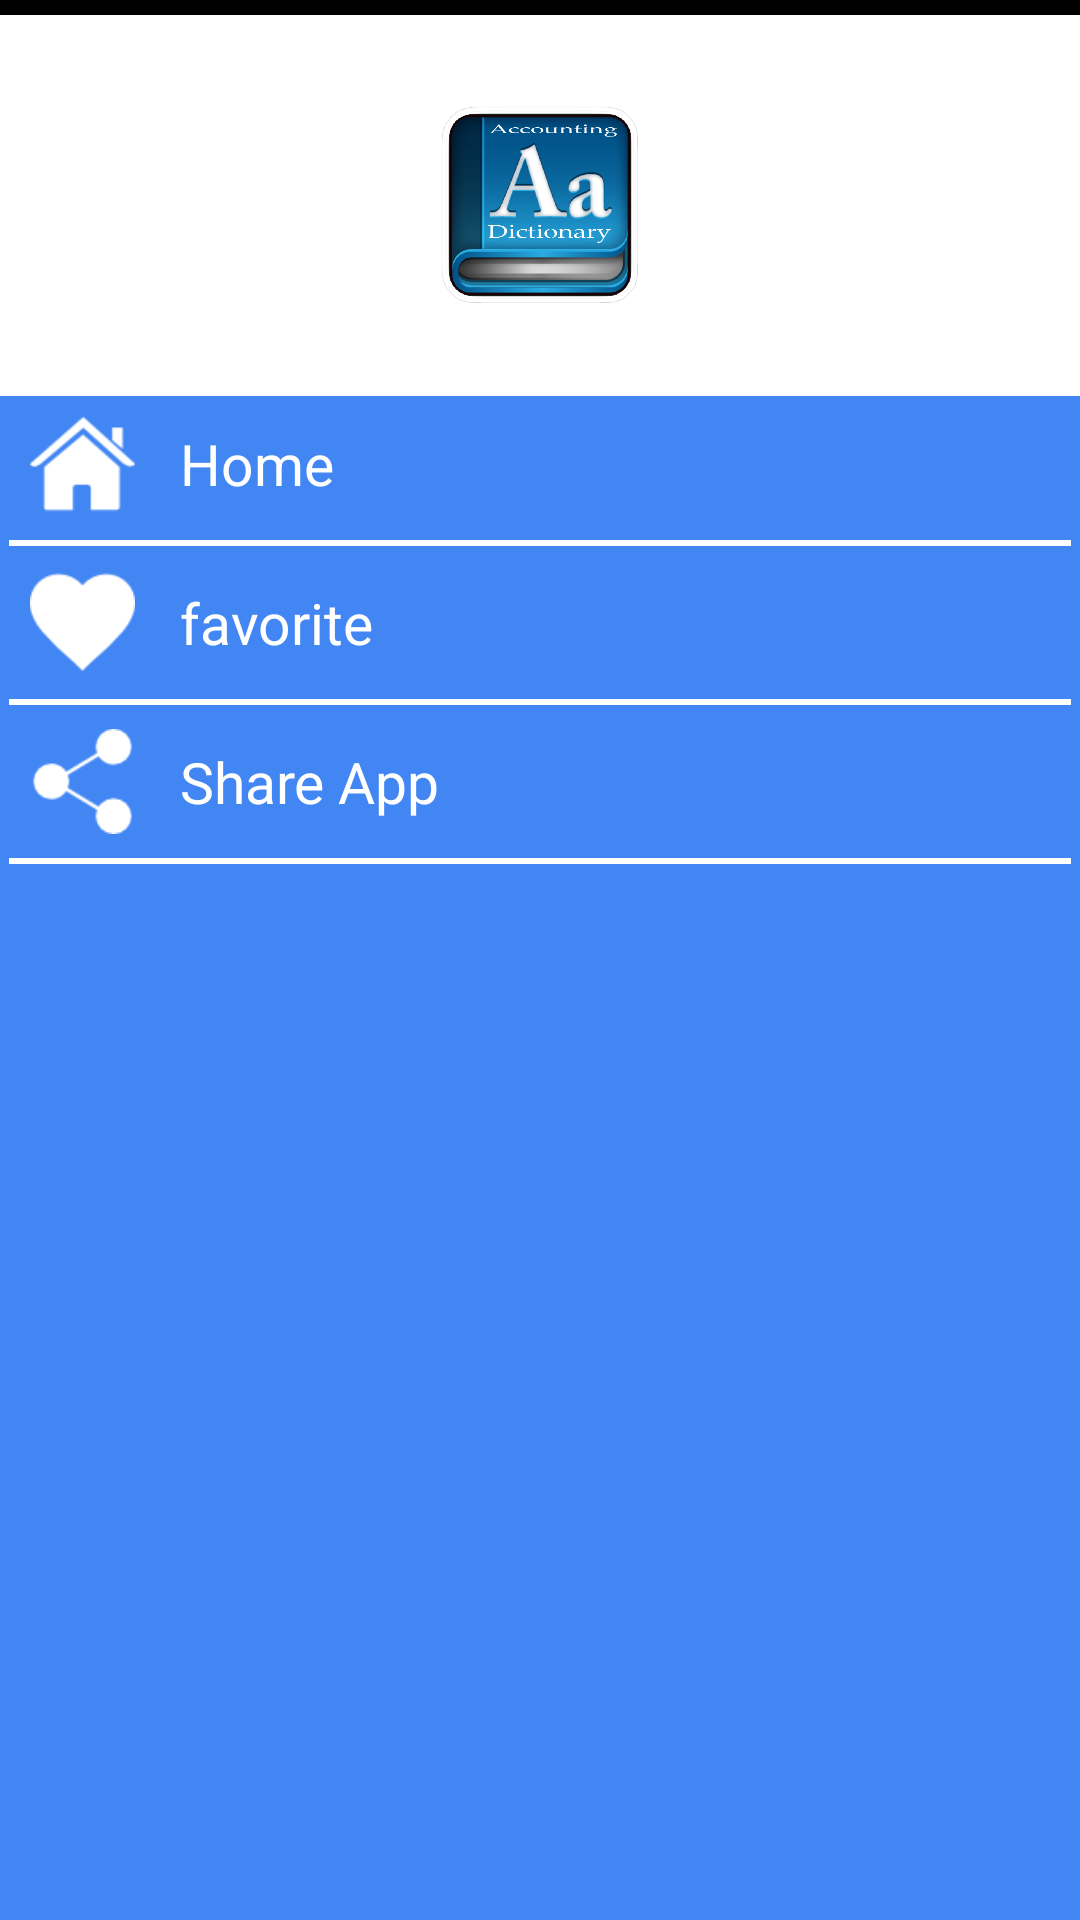

Icon bounding boxes for this 1080*1920 phone screenshot, format (x1, y1, x2, y2):
favselected: (30, 573, 135, 671)
sharemenu: (33, 729, 132, 834)
